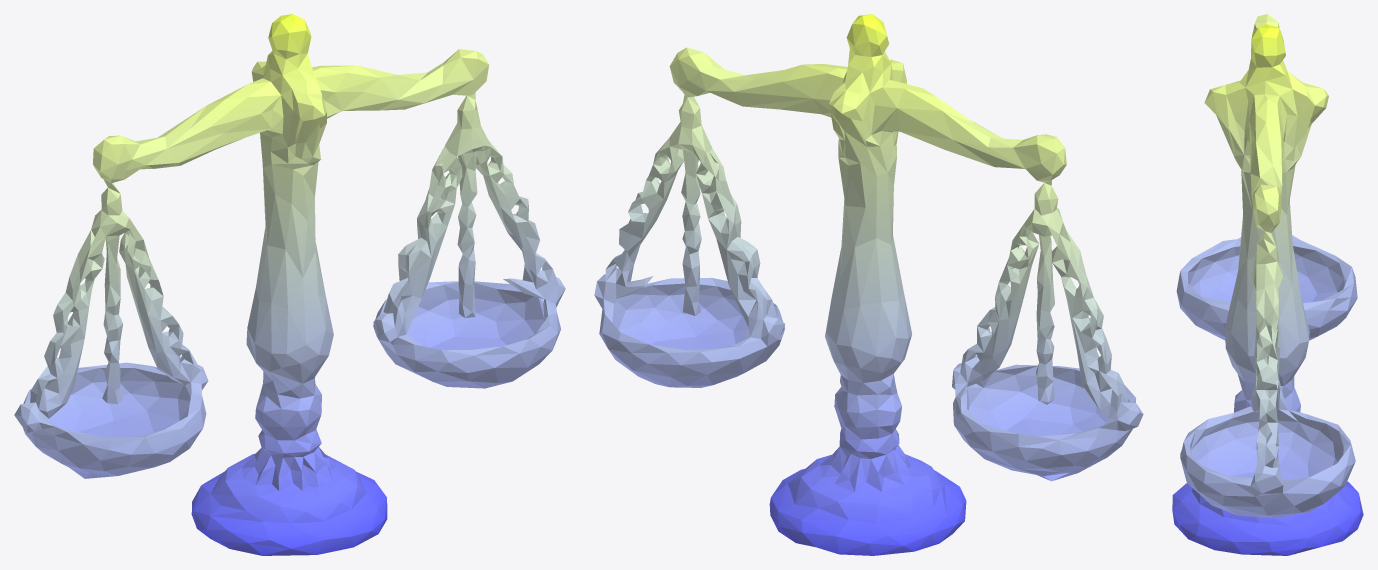
The model's file is 31_cyb_laser_gradient_fish_scales_2871_2026_10_03_8beb2d.glb.
3 views of the same model, side by side, from view 1: azimuth 30°, elevation 25°; view 2: azimuth 150°, elevation 25°; view 3: azimuth 270°, elevation 25° (orthographic). The views are drawn at different scales.
Visible parts, largest first — view 1: geometry_0; view 2: geometry_0; view 3: geometry_0.
Part boxes in pixels (<box>): geometry_0: <box>14,14,565,555</box>; geometry_0: <box>594,14,1143,555</box>; geometry_0: <box>1172,14,1363,555</box>.
Bounding box in the file's own units: 0.9995 × 0.8887 × 0.3131.
